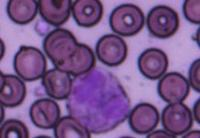E: (66, 66, 130, 132)
